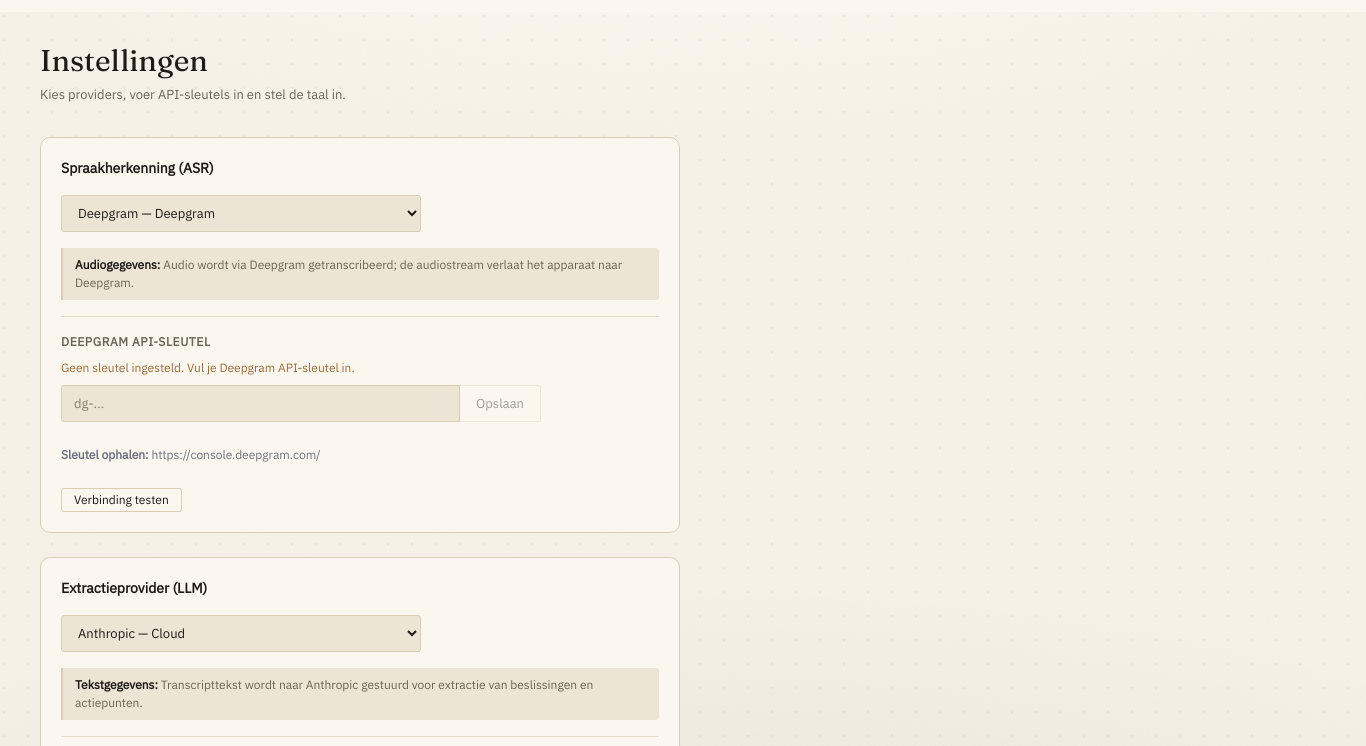
it: SettingsScreen — local extraction › prefills the base URL from the chosen runtime preset
Select "Lokaal — LM Studio, Ollama, llama.cpp" in the dropdown with test id "extraction-provider-select": (241, 634) [61,615,421,652]
(page scrolled)
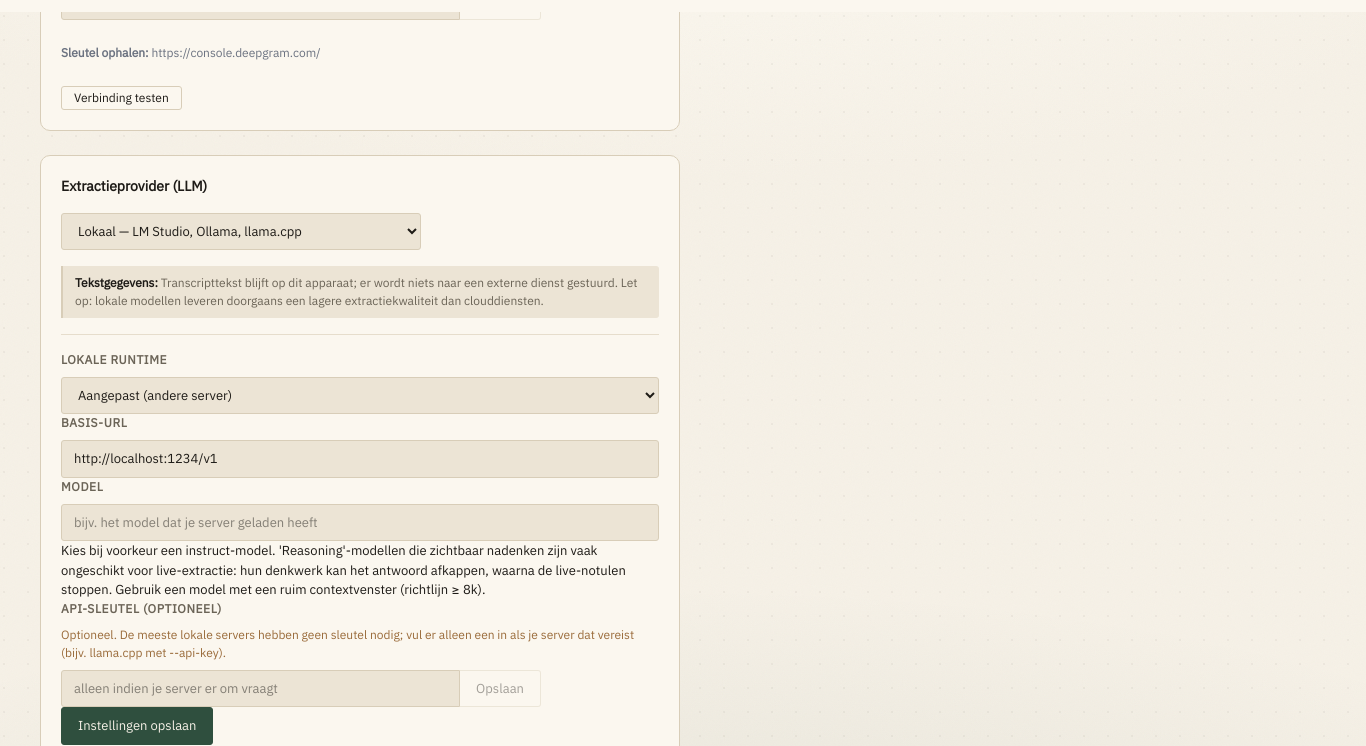
expect the dropdown with test id "local-preset" is shown: met
Select "Ollama" in the dropdown with test id "local-preset": (360, 396) [61,377,659,414]
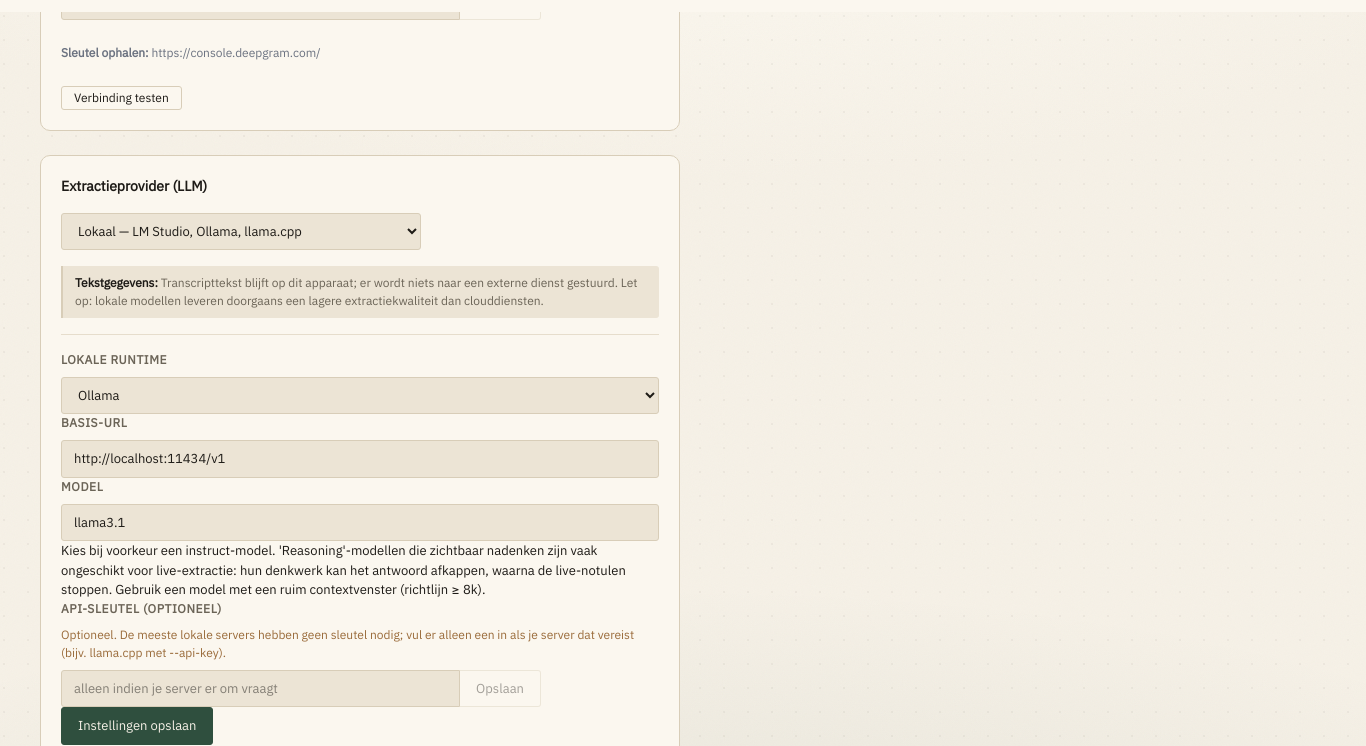
expect the field with test id "local-base-url" holds "http://localhost:11434/v1": met, box [61,440,659,478]
